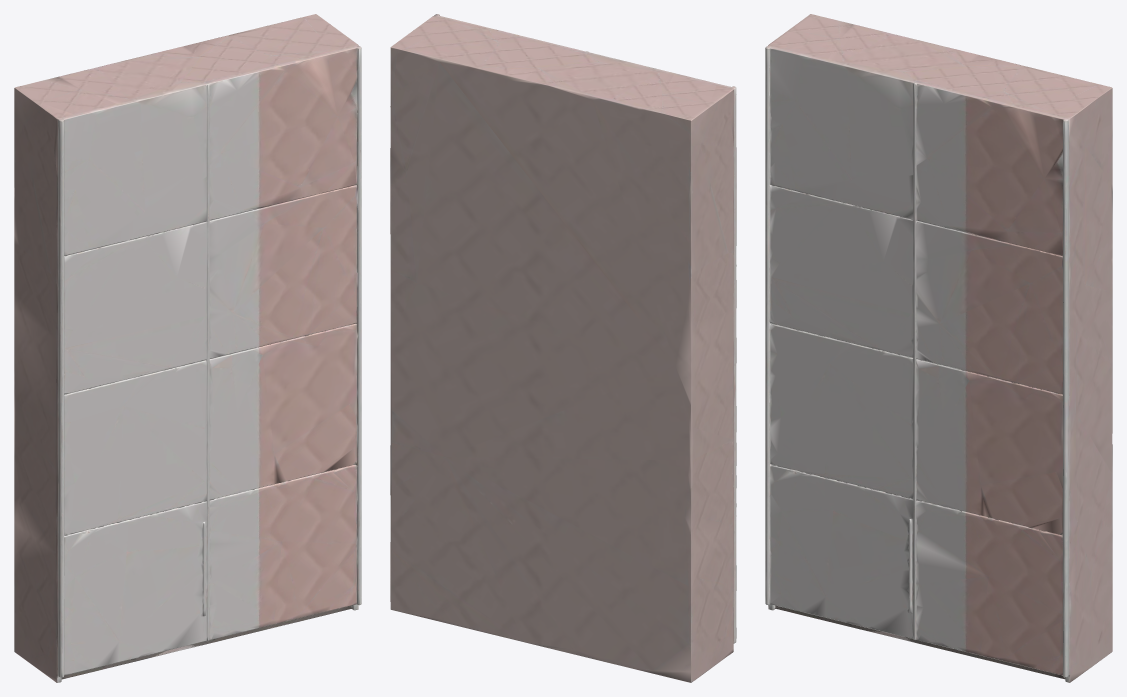
The model's file is kleiderschrank.glb.
3 renders of one model, left to right at view 1: azimuth 30°, elevation 25°; view 2: azimuth 150°, elevation 25°; view 3: azimuth 330°, elevation 25°, orthographic.
Size of the model in its own units: 1.07 by 1.9 by 0.284.
1 material, 1 textured.
